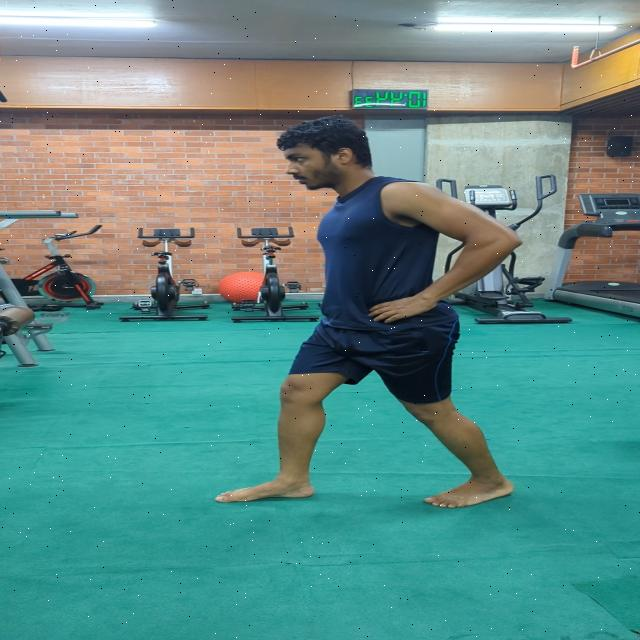Normal_Lunges: (212, 110, 540, 516)
